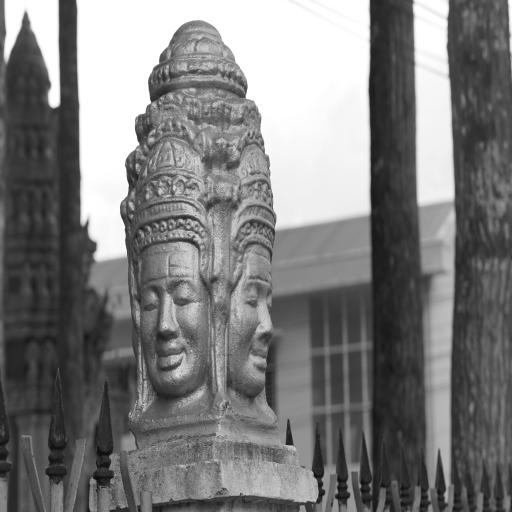than: (92, 2, 306, 462)
